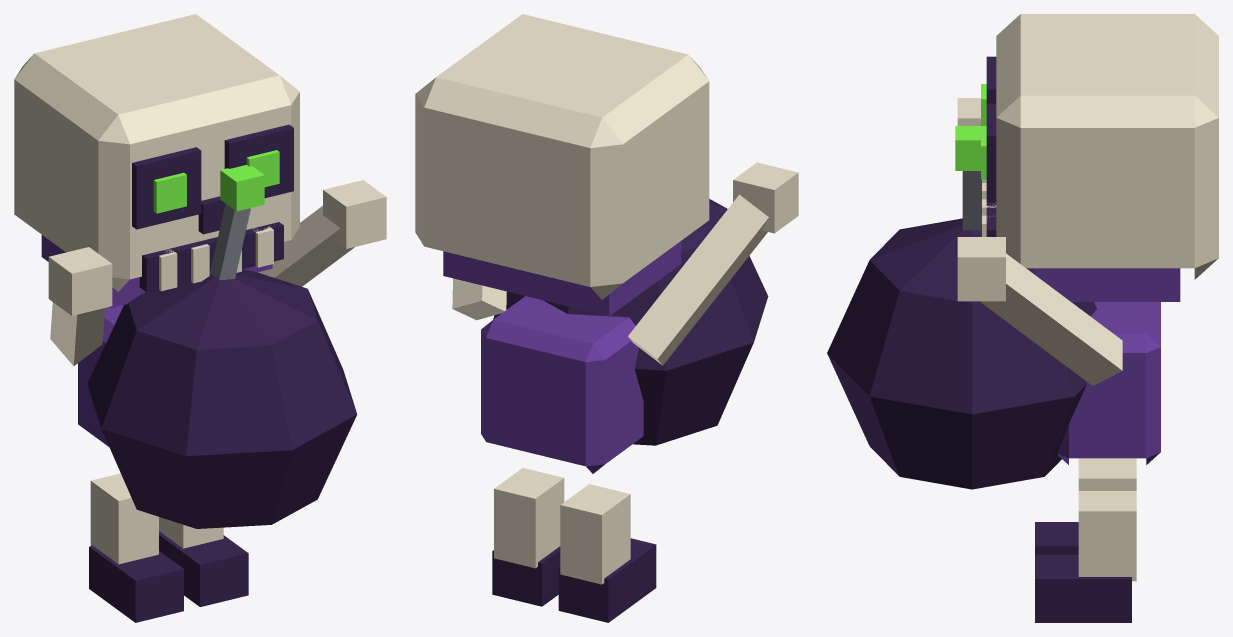
The model's file is kamikaze_r4.glb.
The picture shows the model from 3 angles, left to right: view 1: azimuth 30°, elevation 25°; view 2: azimuth 150°, elevation 25°; view 3: azimuth 270°, elevation 25°; orthographic projection. The views are drawn at different scales.
Parts seen in each view (by area): view 1: kamikaze_r4_mesh; view 2: kamikaze_r4_mesh; view 3: kamikaze_r4_mesh.
Part boxes in pixels (left/top/right/bottom): kamikaze_r4_mesh: left=14, top=14, right=386, bottom=622; kamikaze_r4_mesh: left=415, top=14, right=798, bottom=622; kamikaze_r4_mesh: left=827, top=14, right=1218, bottom=622.
Bounding box in the file's own units: 0.8244 × 1.3 × 0.8561.
Materials: 1 (1 with a texture image).
